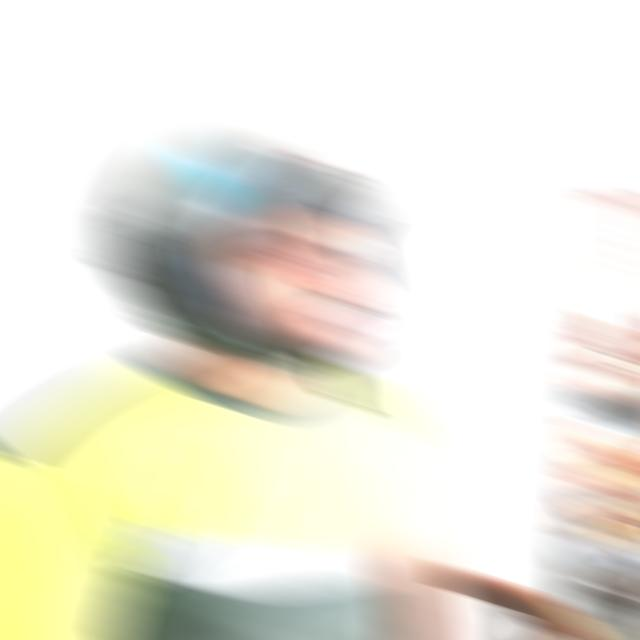With Helmet: (102, 103, 440, 354)
